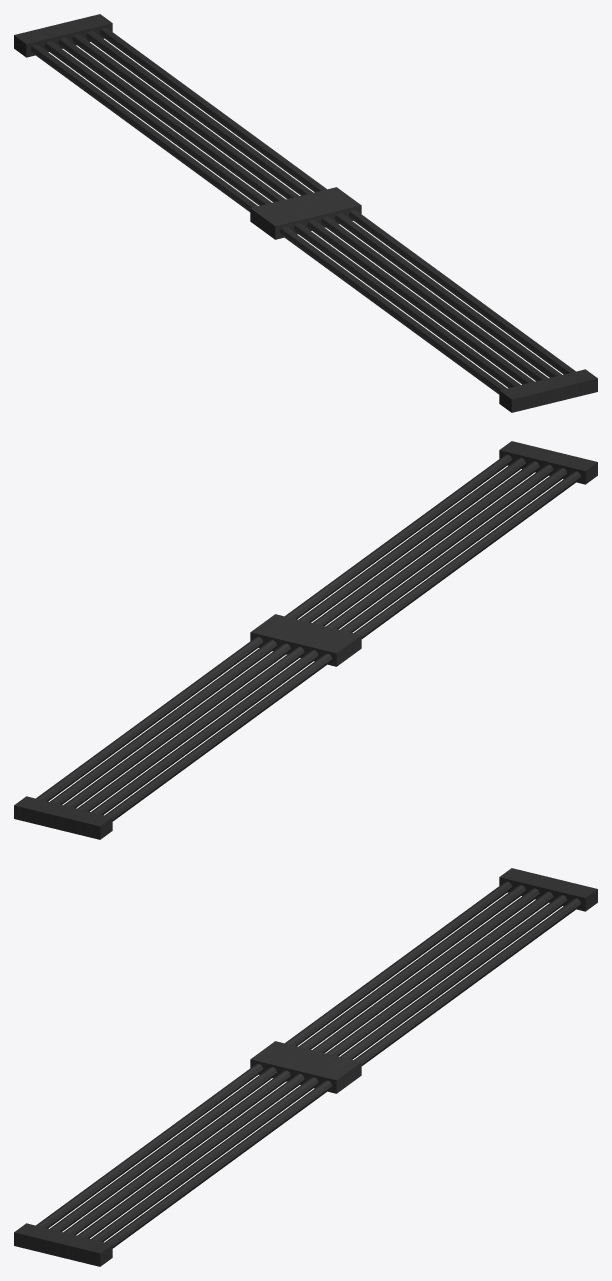
File: Wires_2m_v2.fbx
The picture shows the model from 3 angles, top to bottom: view 1: azimuth 30°, elevation 25°; view 2: azimuth 150°, elevation 25°; view 3: azimuth 330°, elevation 25°; orthographic projection.
Visible parts, largest first — view 1: Wires2; view 2: Wires2; view 3: Wires2.
Boxes of the visible parts, x1=… form: Wires2: x1=14, y1=14, x2=597, y2=412; Wires2: x1=14, y1=441, x2=597, y2=839; Wires2: x1=14, y1=868, x2=597, y2=1266.
Bounding box in the file's own units: 20 × 3 × 200.
